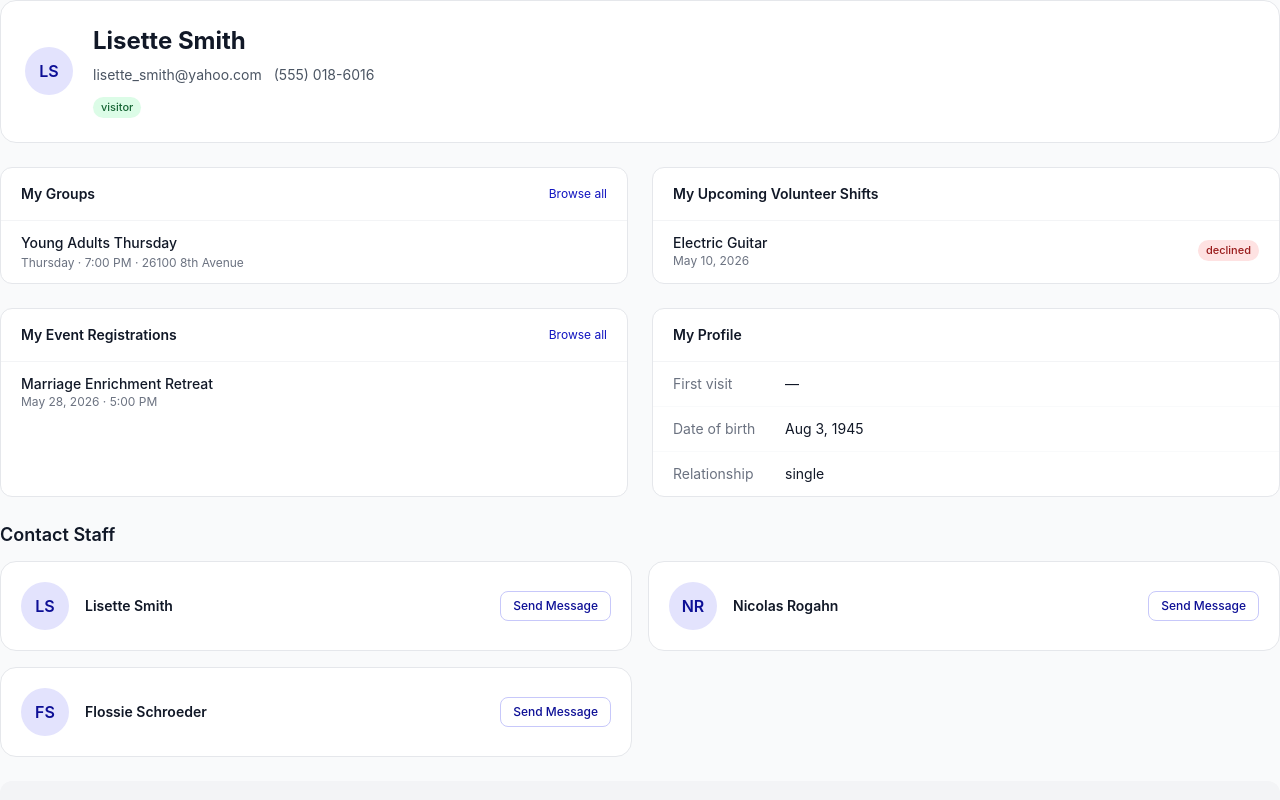
Test: MemberDashboard — Contact Staff section › opens the message modal when Send Message is clicked
What coordinates should you click on to do the following:
click the 1st button "Send Message"
I would click on:
 (556, 606)
Its box is left=500, top=590, right=611, bottom=620.
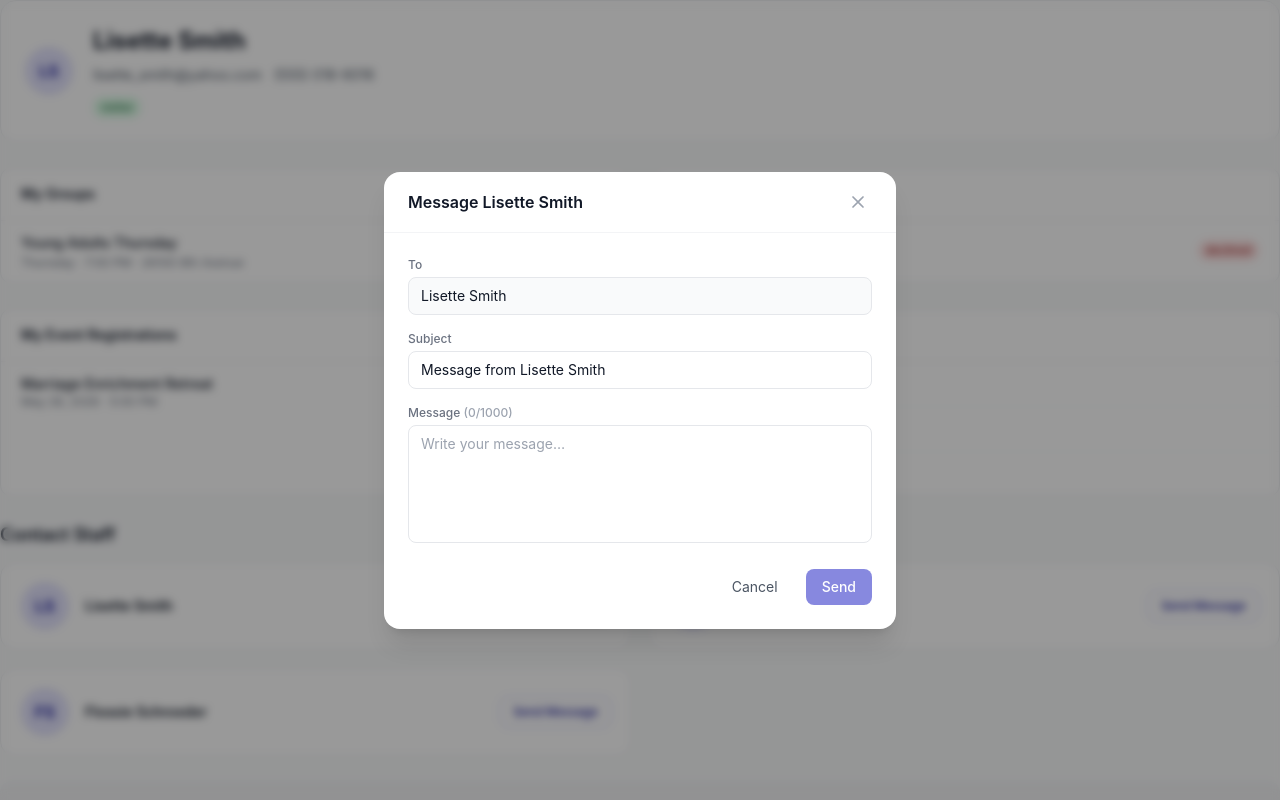
expect the dialog is shown: met
expect the field labelled "Subject" is shown: met, box left=408, top=350, right=872, bottom=388
expect the text box with id "msg-body" is shown: met, box left=408, top=424, right=872, bottom=542
